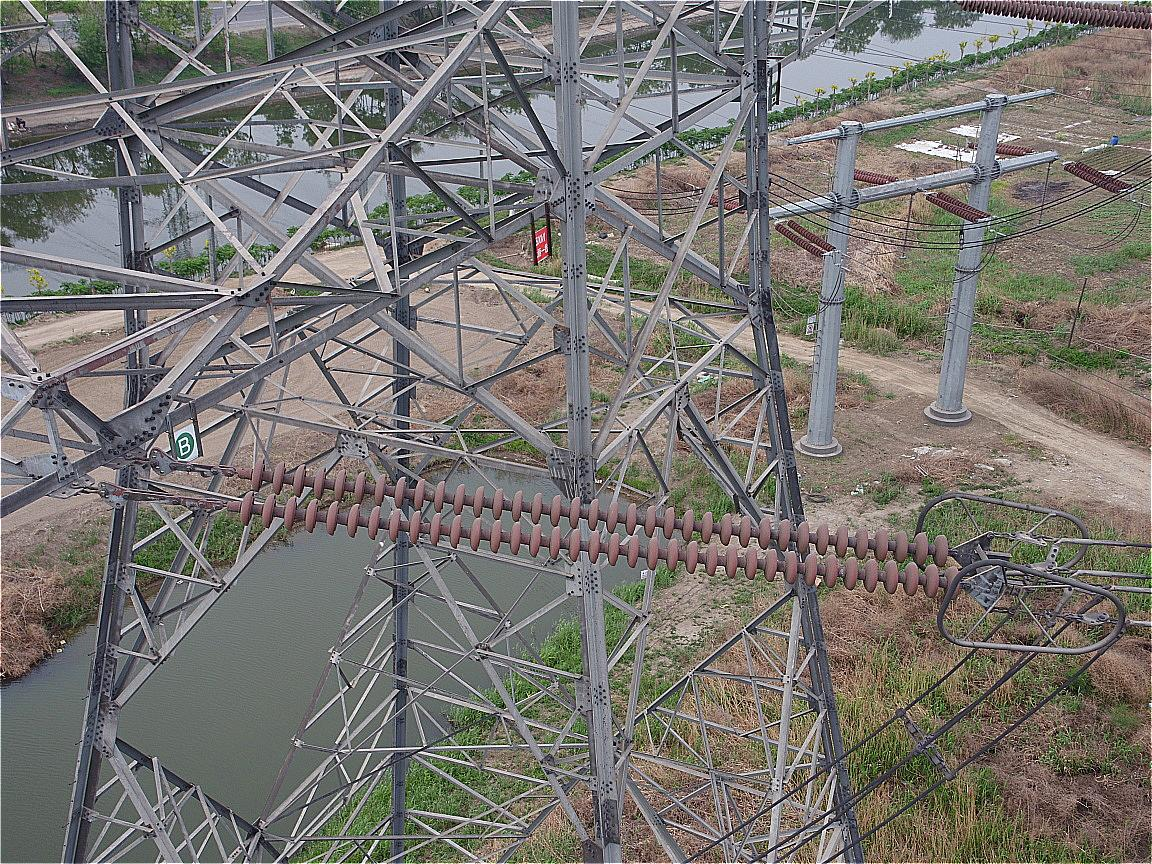insultor1: (204, 442, 973, 607)
